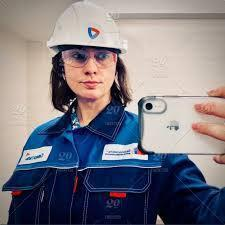helmet: (47, 0, 128, 54)
